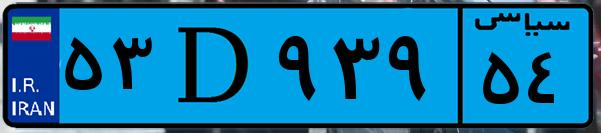3: (330, 28, 385, 110), (110, 28, 158, 98)
4: (525, 38, 570, 115)
5: (57, 26, 110, 100), (475, 38, 525, 113)
9: (270, 28, 330, 110), (385, 28, 445, 110)
D: (158, 12, 270, 120)
